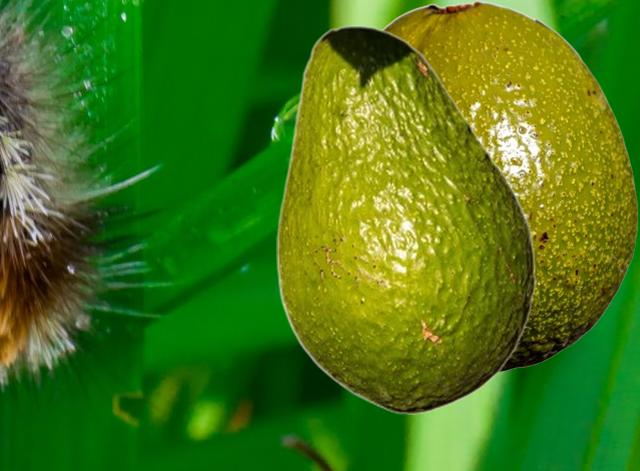avocado: (276, 25, 535, 413), (382, 0, 637, 374)
